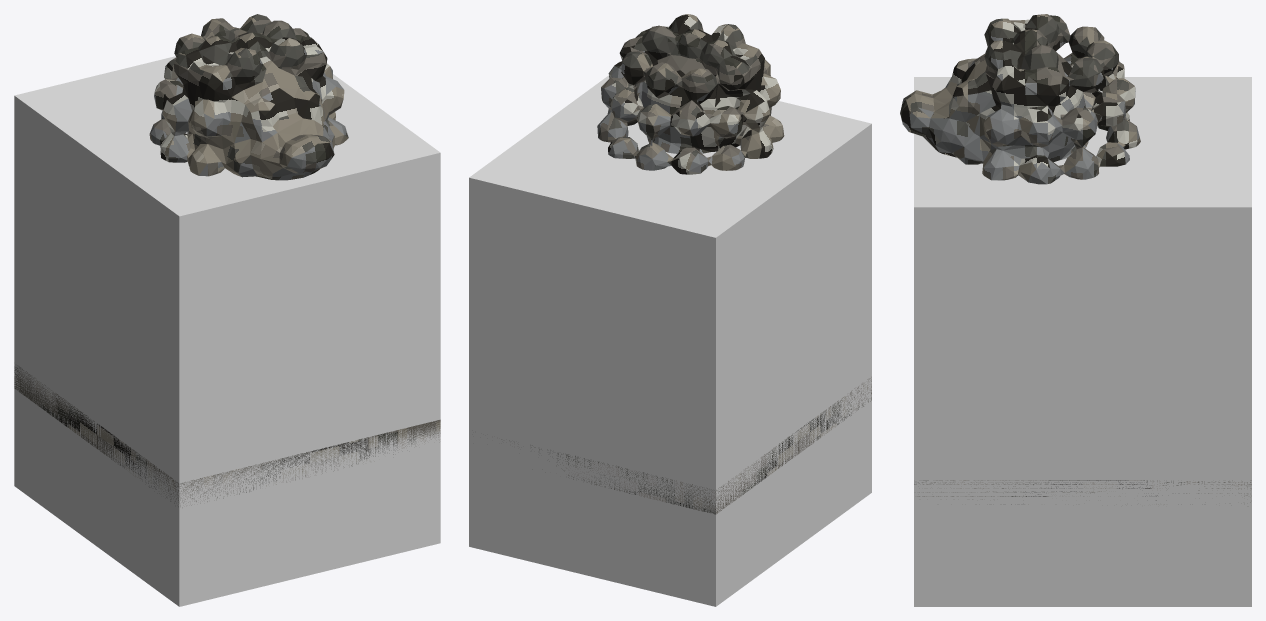
Rendered from JP_Prop_Komainu_B.glb.
The picture shows the model from 3 angles, left to right: view 1: azimuth 30°, elevation 25°; view 2: azimuth 150°, elevation 25°; view 3: azimuth 270°, elevation 25°; orthographic projection. The views are drawn at different scales.
Visible parts, largest first — view 1: COL_JP_Prop_Komainu_B, JP_Prop_Komainu_B; view 2: COL_JP_Prop_Komainu_B, JP_Prop_Komainu_B; view 3: COL_JP_Prop_Komainu_B, JP_Prop_Komainu_B.
Part boxes in pixels (x1=…): COL_JP_Prop_Komainu_B: x1=14, y1=56, x2=440, y2=606; JP_Prop_Komainu_B: x1=14, y1=14, x2=440, y2=507; COL_JP_Prop_Komainu_B: x1=469, y1=75, x2=871, y2=606; JP_Prop_Komainu_B: x1=501, y1=14, x2=871, y2=514; COL_JP_Prop_Komainu_B: x1=914, y1=77, x2=1251, y2=606; JP_Prop_Komainu_B: x1=900, y1=14, x2=1251, y2=504.
Size of the model in its own units: 0.84 by 1.54 by 0.9575.
Materials: 2 (2 with a texture image).
